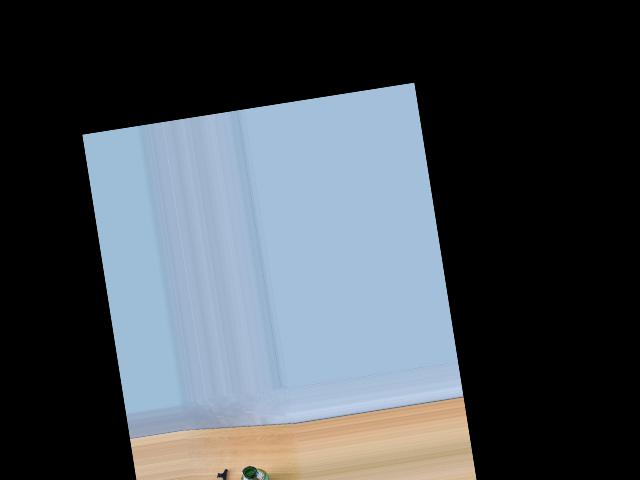beer: (238, 464, 270, 480)
